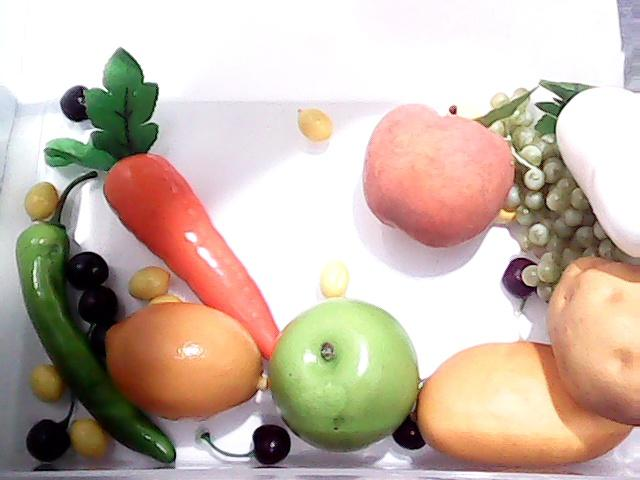apple: (262, 292, 422, 452)
carrot: (44, 45, 284, 363)
grape: (510, 118, 610, 276)
lemon: (85, 299, 292, 437)
mango: (416, 341, 640, 467)
peach: (361, 100, 515, 248)
pepper: (14, 175, 186, 465)
potato: (547, 256, 640, 427)
radish: (536, 76, 640, 259)
